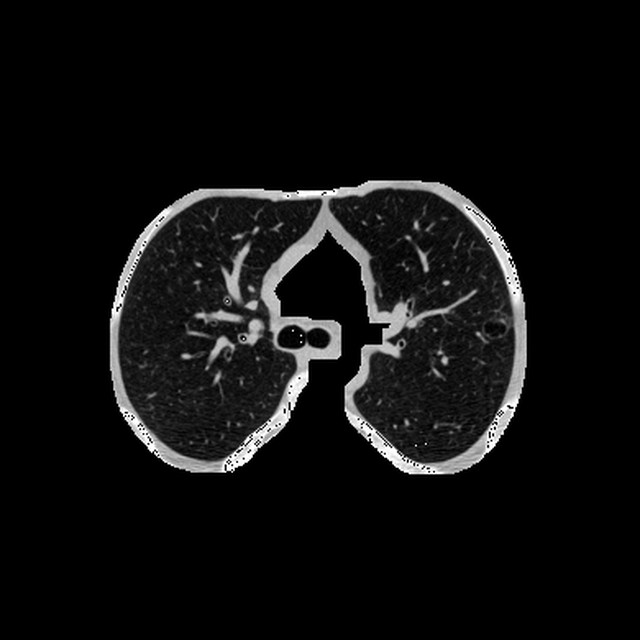PN: (482, 313, 509, 340)
